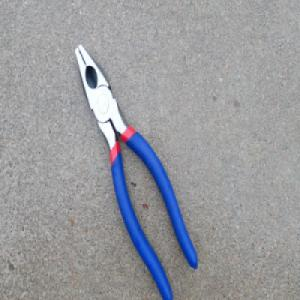Pliers: (73, 41, 198, 300)
